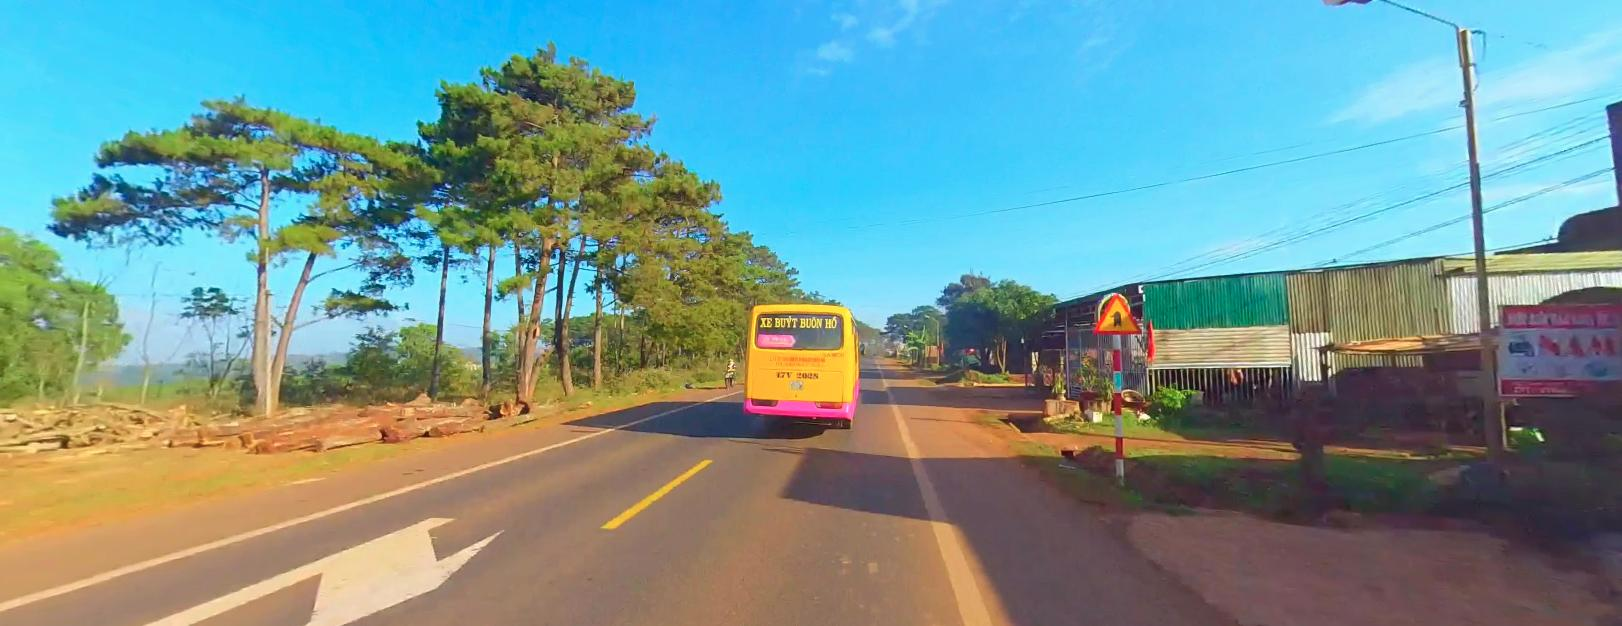Nguy hiem: (1093, 292, 1143, 333)
